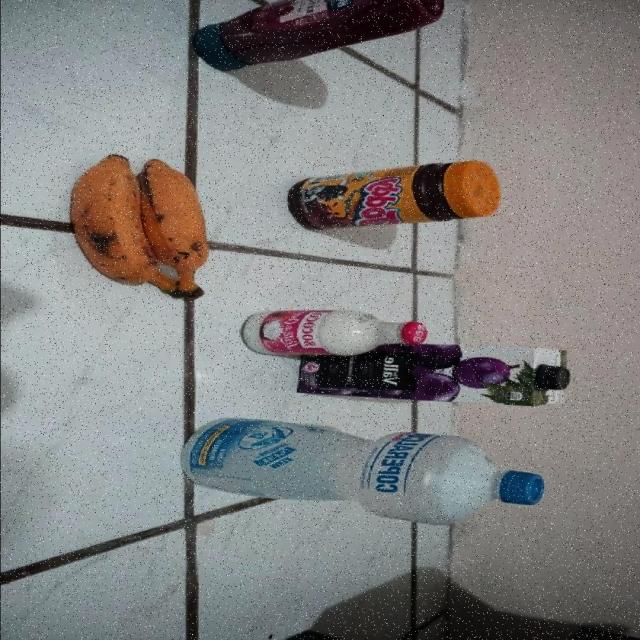AlcoholBottle: (178, 414, 547, 529)
Banana: (69, 154, 212, 304)
ChocolatePowder: (289, 160, 501, 233)
CoconutMilk: (236, 307, 425, 361)
Ketchup: (186, 0, 446, 71)
